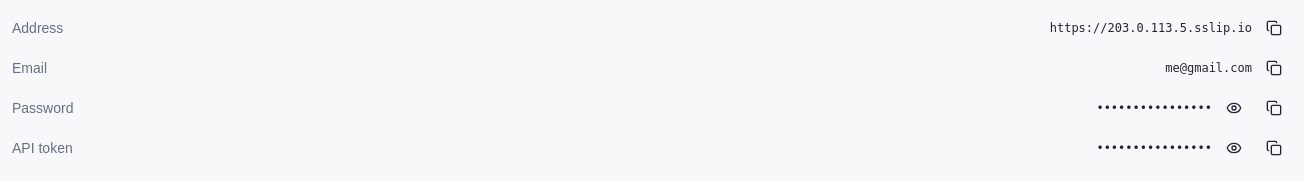
Test: revealing one value › shows the password when asked, and hides it again
Click the button named "Show Password".
click(1234, 108)  # box [1216, 92, 1252, 124]
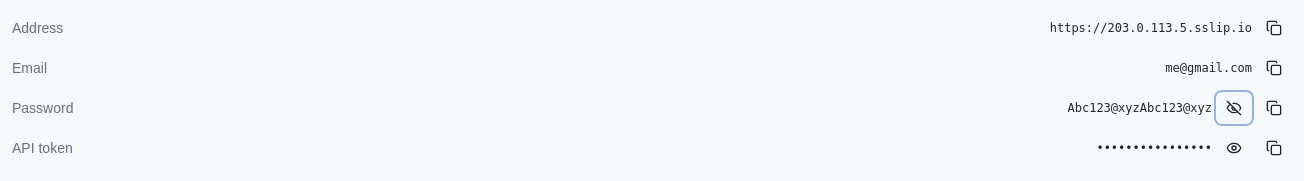
Expected: the text with test id "coolify-field-password" reads "Abc123@xyzAbc123@xyz", [1068, 101, 1212, 115]
Click the button named "Hide Password".
click(1234, 108)  # box [1216, 92, 1252, 124]
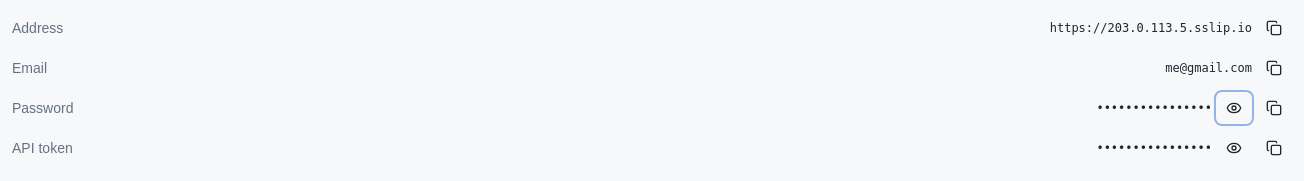
Expected: the text with test id "coolify-field-password" reads "••••••••••••••••", [1096, 101, 1212, 115]
